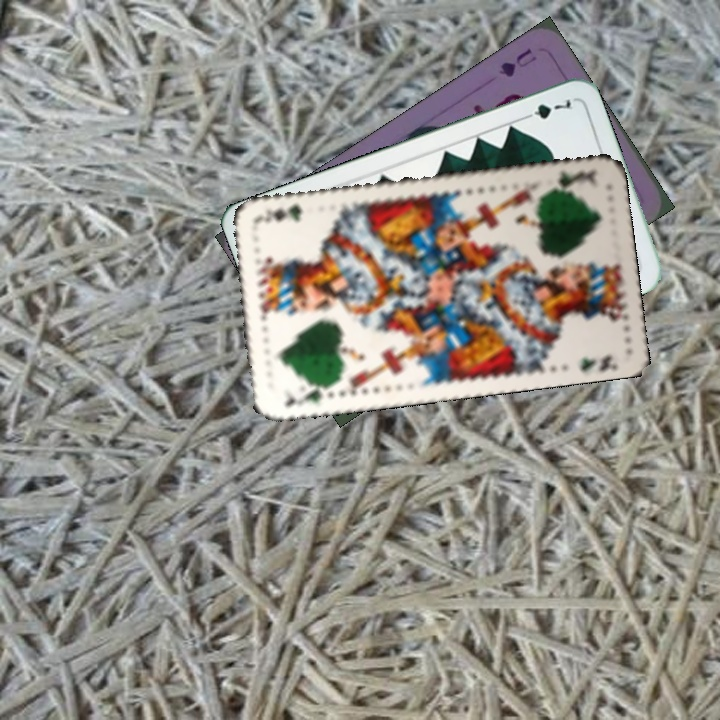G7: (518, 95, 576, 123)
GK: (281, 380, 334, 410), (544, 165, 599, 192)
GU: (495, 43, 539, 80)
